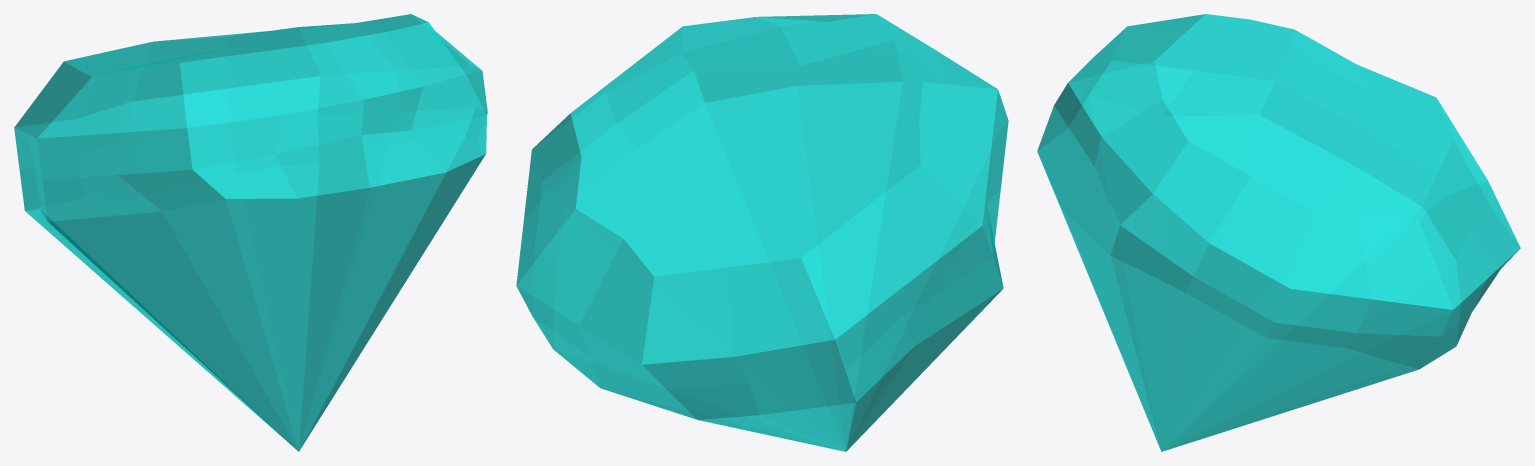
Rendered from Diamond.fbx.
3 renders of one model, left to right at view 1: azimuth 30°, elevation 25°; view 2: azimuth 150°, elevation 25°; view 3: azimuth 270°, elevation 25°, orthographic. The views are drawn at different scales.
Visible parts, largest first — view 1: Cylinder; view 2: Cylinder; view 3: Cylinder.
Part boxes in pixels (bbox=[...]): Cylinder: bbox=[14, 14, 487, 451]; Cylinder: bbox=[516, 14, 1008, 451]; Cylinder: bbox=[1037, 14, 1520, 451].
Size of the model in its own units: 202 by 178 by 195.
